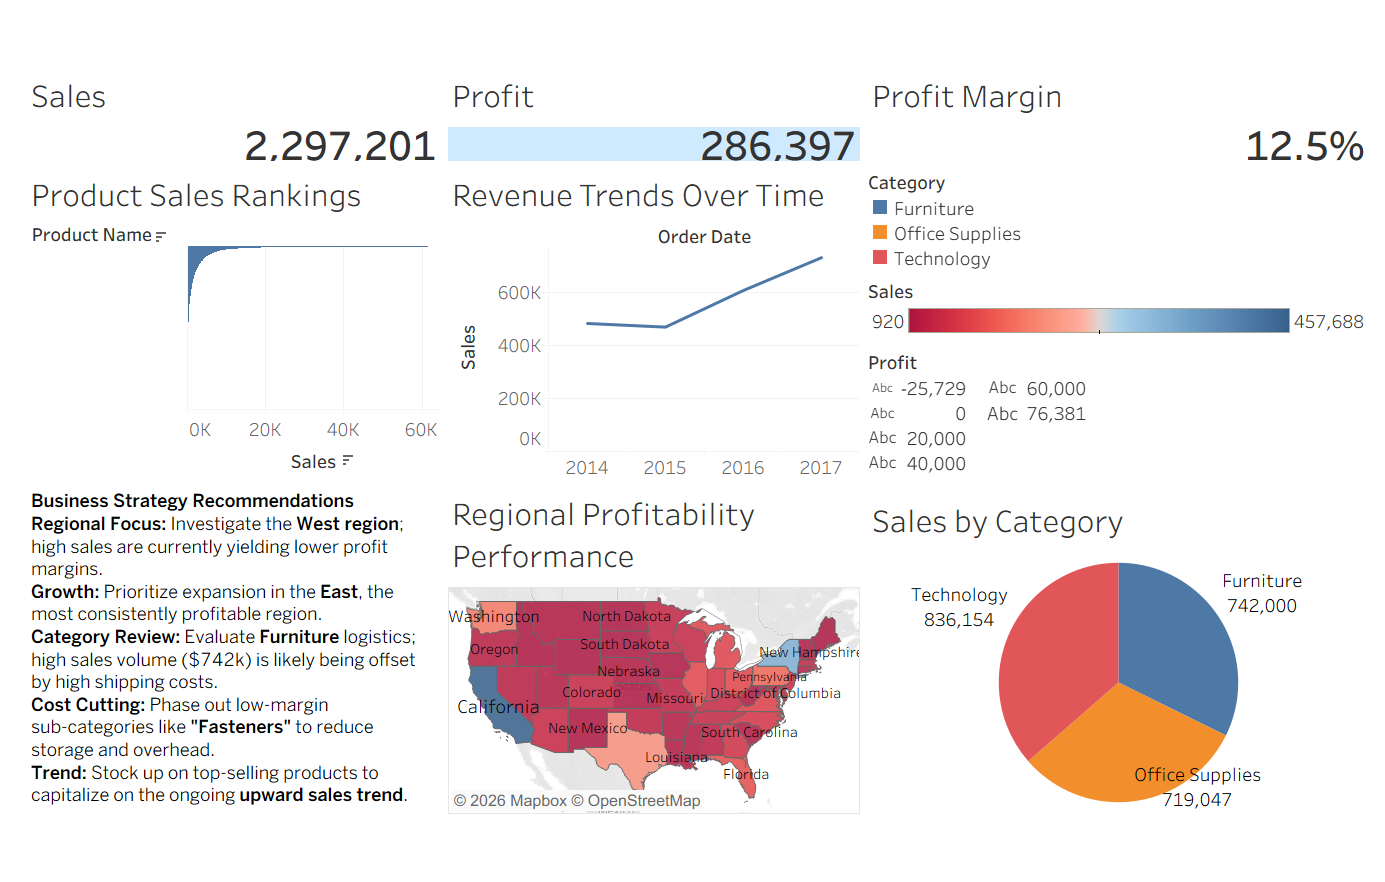

The page's visual inventory and layout, read from the dashboard file:
{"tool":"tableau","page":{"name":"Dashboard 1","canvas":[1366,768],"ordinal":0},"visuals":[{"type":"worksheet","title":"Sales","mark":"Automatic","box":[8,8,421,99]},{"type":"worksheet","title":"Profit","mark":"Automatic","box":[429,8,420,99]},{"type":"worksheet","title":"Profit Margin","mark":"Automatic","box":[849,8,509,99]},{"type":"worksheet","title":"Product Sales Rankings","mark":"Automatic","rows":["Product Name"],"cols":["Sales"],"box":[8,107,421,319]},{"type":"worksheet","title":"Revenue Trends Over Time","mark":"Automatic","rows":["Sales"],"cols":["Order Date"],"box":[429,107,420,319]},{"type":"legend","title":"Sales by Category","param":"[federated.001sw8r16ukdu51f1y8420t58hgd].[none:Category:nk]","box":[849,107,509,109]},{"type":"legend","title":"Regional Profitability Performance","param":"[federated.001sw8r16ukdu51f1y8420t58hgd].[sum:Sales:qk]","box":[849,216,509,71]},{"type":"legend","title":"Regional Profitability Performance","param":"[federated.001sw8r16ukdu51f1y8420t58hgd].[sum:Profit:qk]","box":[849,287,509,146.5]},{"type":"text","box":[8,426,420.5,334]},{"type":"worksheet","title":"Regional Profitability Performance","mark":"Multipolygon","box":[428.5,426,420.5,334]},{"type":"worksheet","title":"Sales by Category","mark":"Pie","box":[849,433.5,509,326.5]}]}

Visuals, with their boxes on the page's 1366x768 design canvas (x1, y1, x2, y2). These are canvas units, not pixel positions in the 1385x882 screenshot, which may show the page scaled, cropped or inside an application window:
"Sales" worksheet: (x1=8, y1=8, x2=429, y2=107)
"Profit" worksheet: (x1=429, y1=8, x2=849, y2=107)
"Profit Margin" worksheet: (x1=849, y1=8, x2=1358, y2=107)
"Product Sales Rankings" worksheet: (x1=8, y1=107, x2=429, y2=426)
"Revenue Trends Over Time" worksheet: (x1=429, y1=107, x2=849, y2=426)
"Sales by Category" legend: (x1=849, y1=107, x2=1358, y2=216)
"Regional Profitability Performance" legend: (x1=849, y1=216, x2=1358, y2=287)
"Regional Profitability Performance" legend: (x1=849, y1=287, x2=1358, y2=434)
text: (x1=8, y1=426, x2=428, y2=760)
"Regional Profitability Performance" worksheet (Multipolygon marks): (x1=428, y1=426, x2=849, y2=760)
"Sales by Category" worksheet (Pie marks): (x1=849, y1=434, x2=1358, y2=760)
